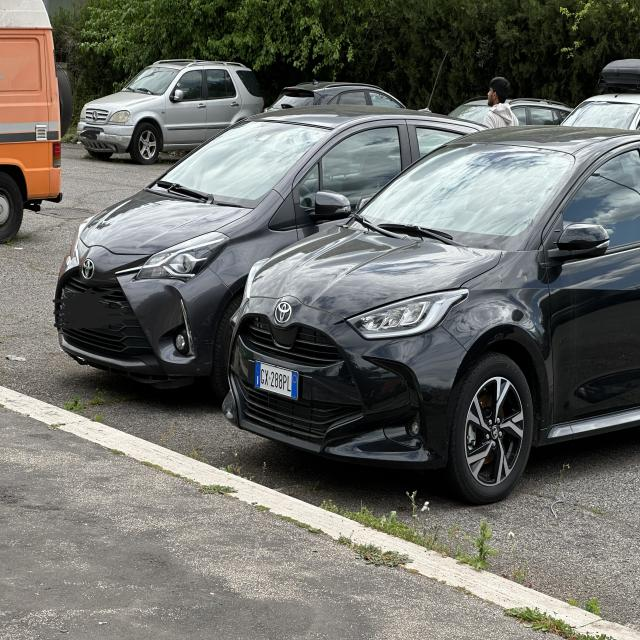number_plate: (255, 362, 298, 398)
